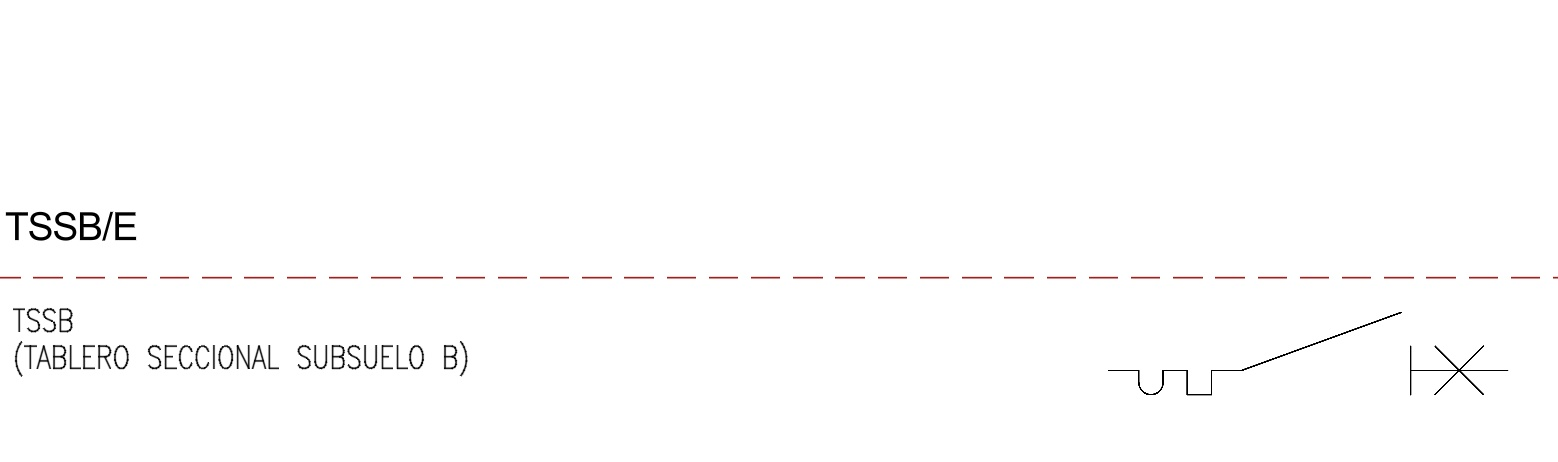interruptor_termomagnetico: (1098, 302, 1518, 405)
